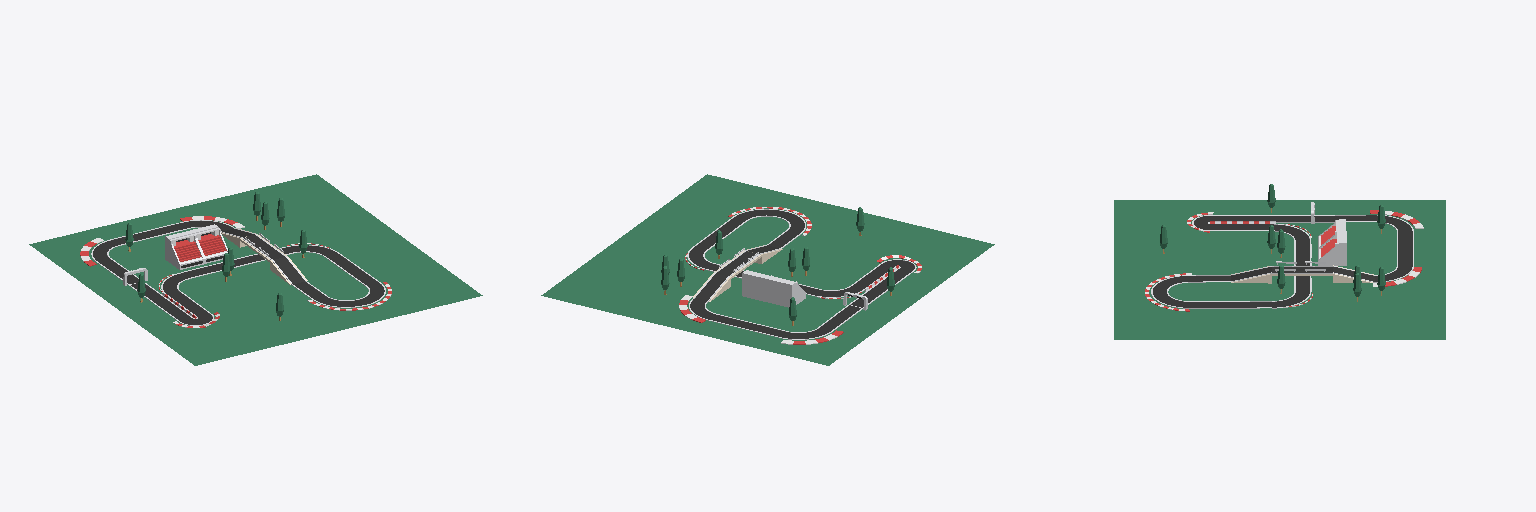
The model's file is track.obj.
The picture shows the model from 3 angles: view 1: azimuth 30°, elevation 25°; view 2: azimuth 150°, elevation 25°; view 3: azimuth 270°, elevation 25°; orthographic projection.
Parts seen in each view (by area): view 1: grass, roadCornerSmallWall.000_roadCornerSmallWall.002, grandStand; view 2: grass, roadCornerSmallWall.000_roadCornerSmallWall.002, grandStand; view 3: grass, roadCornerSmallWall.000_roadCornerSmallWall.002, grandStand.
Part boxes in pixels (bbox=[...]): grass: bbox=[29, 174, 482, 365]; roadCornerSmallWall.000_roadCornerSmallWall.002: bbox=[90, 220, 387, 327]; grandStand: bbox=[165, 224, 227, 269]; grass: bbox=[541, 174, 994, 365]; roadCornerSmallWall.000_roadCornerSmallWall.002: bbox=[685, 208, 921, 340]; grandStand: bbox=[742, 270, 805, 307]; grass: bbox=[1114, 200, 1445, 339]; roadCornerSmallWall.000_roadCornerSmallWall.002: bbox=[1149, 202, 1415, 309]; grandStand: bbox=[1318, 219, 1346, 265].
Bounding box in the file's own units: 16.05 × 1.51 × 16.05.